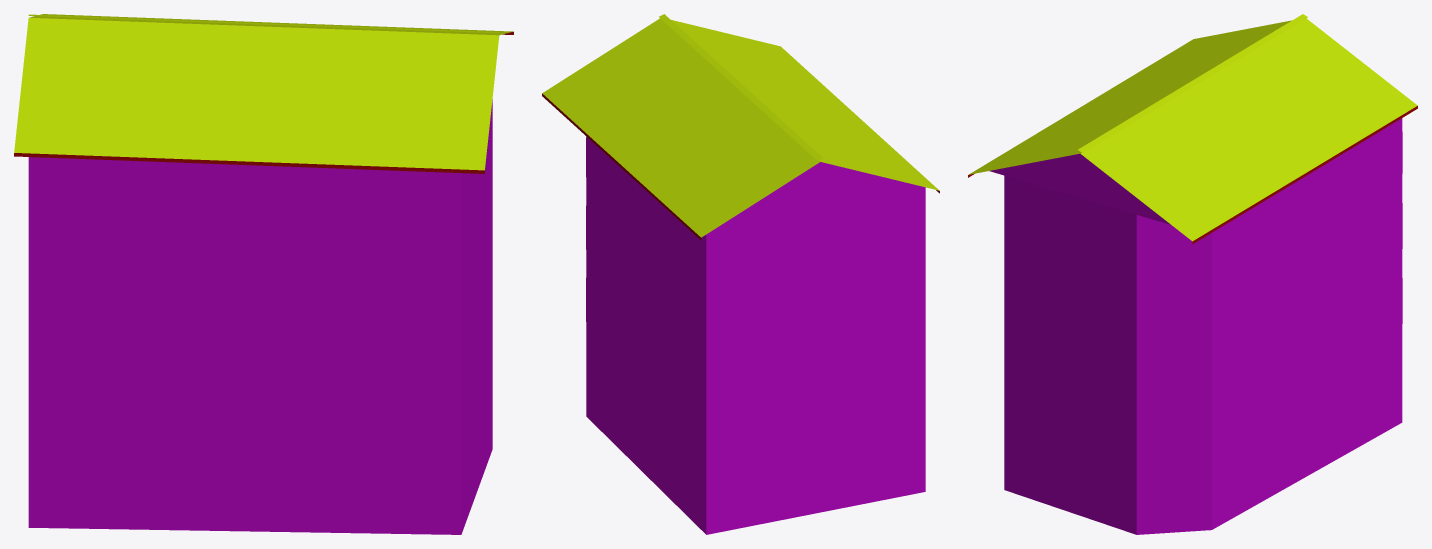
The picture shows the model from 3 angles, left to right: view 1: azimuth 30°, elevation 25°; view 2: azimuth 150°, elevation 25°; view 3: azimuth 270°, elevation 25°; orthographic projection. The views are drawn at different scales.
Visible parts, largest first — view 1: sc_107; view 2: sc_107; view 3: sc_107.
Boxes of the visible parts, bbox=[...] form: sc_107: bbox=[14, 14, 513, 534]; sc_107: bbox=[542, 14, 939, 534]; sc_107: bbox=[968, 14, 1417, 534].
Size of the model in its own units: 17.3 by 14.88 by 16.25.
